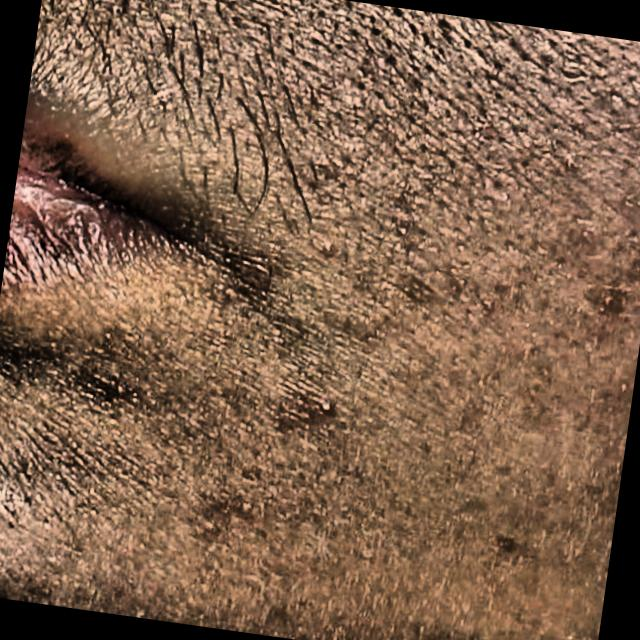whiteheads: (315, 238, 340, 266), (478, 294, 502, 320), (316, 396, 336, 422), (202, 520, 224, 540), (238, 499, 258, 519), (562, 152, 580, 172)
